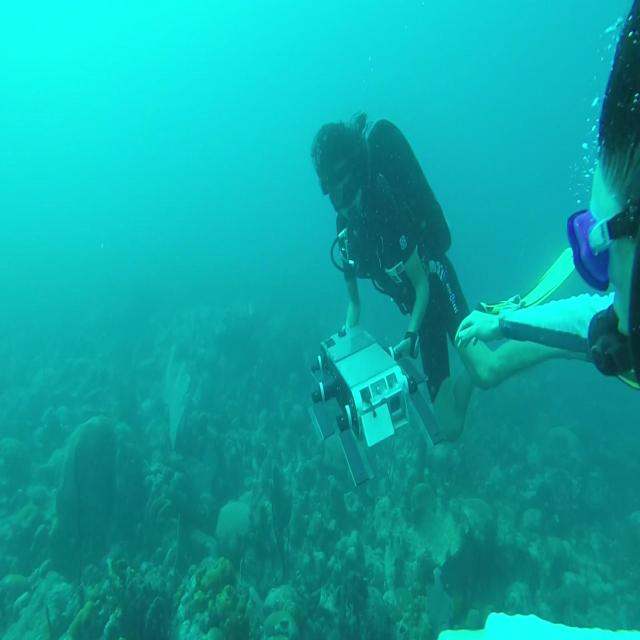human: (454, 1, 639, 393), (310, 110, 478, 444)
